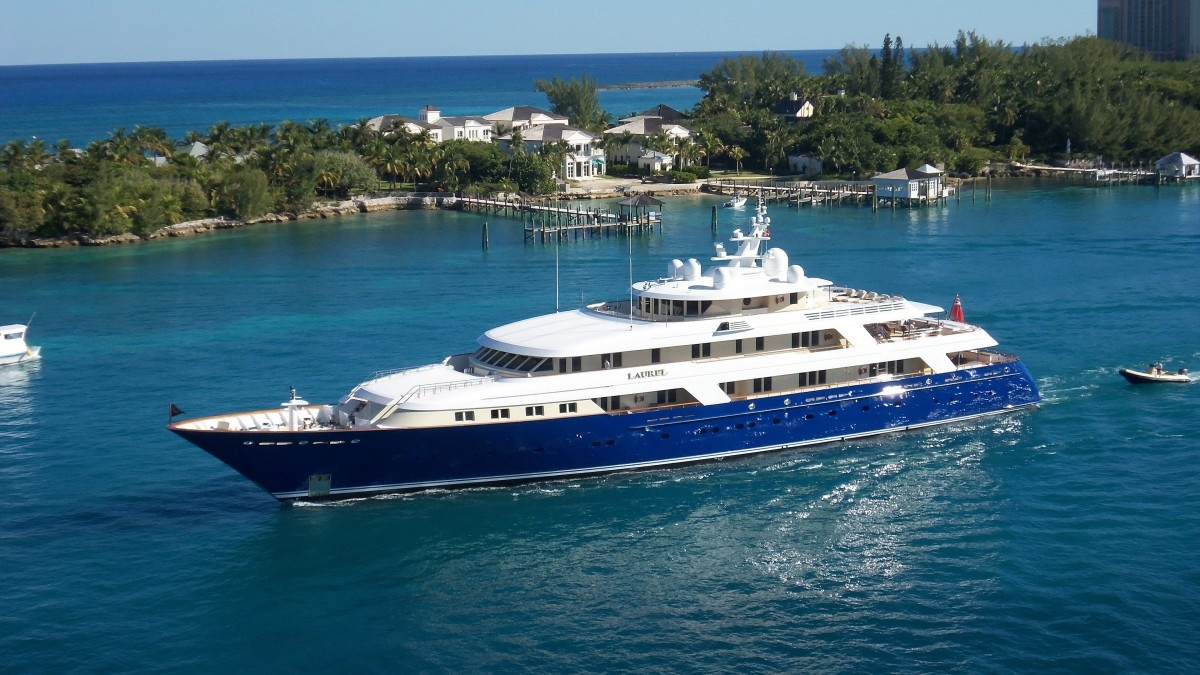yacht: (159, 188, 1042, 516)
